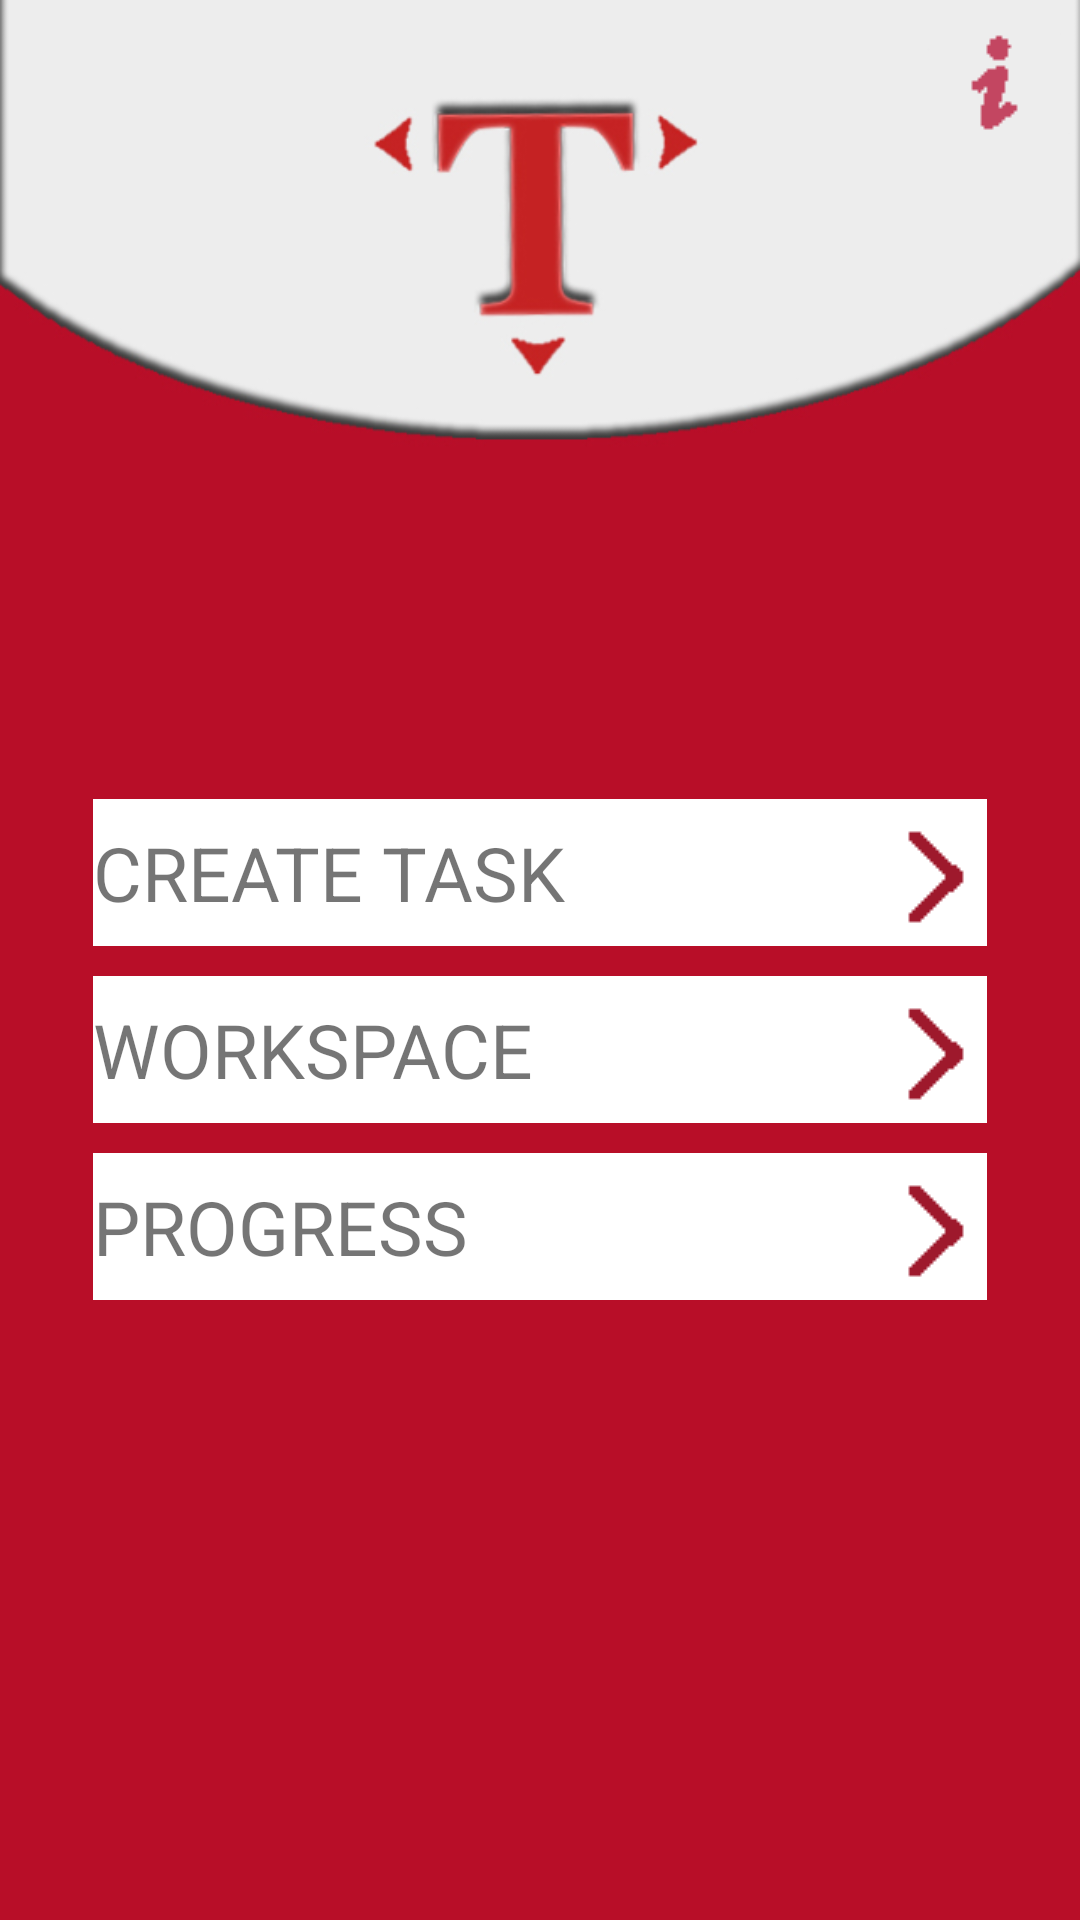

Screen size 1080 × 1920. Icon name, then its box in pixels as (x1, y1, x2, y2):
back info: (971, 35, 1018, 130)
